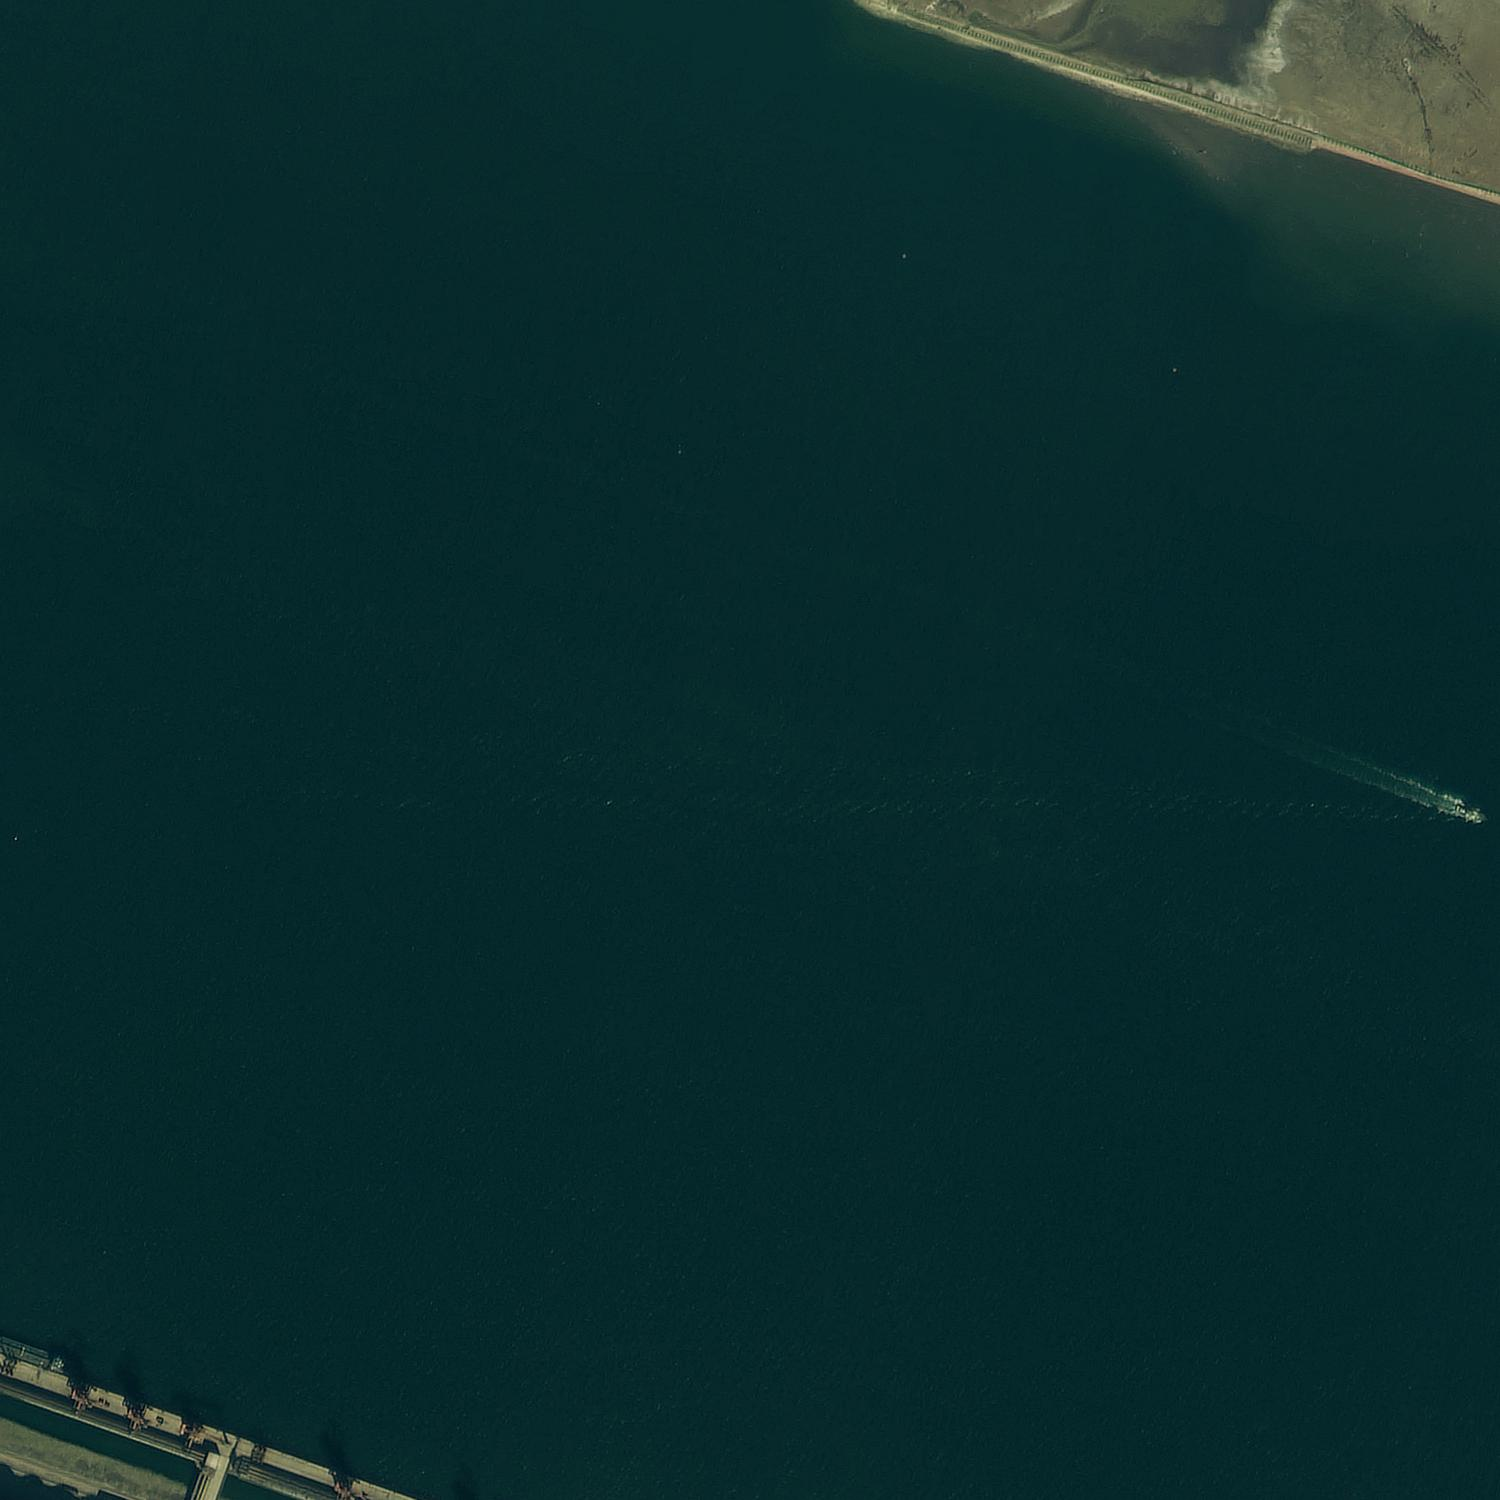A9: (449, 471, 645, 661), (110, 60, 292, 239)
